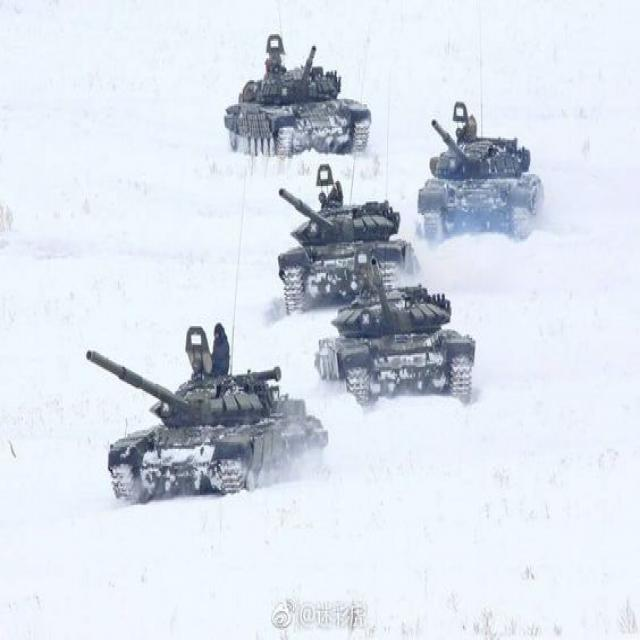tank: (81, 330, 328, 492), (217, 20, 373, 168), (324, 272, 481, 419), (268, 173, 418, 315), (407, 99, 546, 247)
